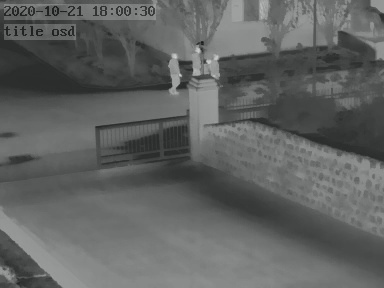person: (169, 52, 183, 93), (207, 52, 221, 80), (190, 47, 203, 77)
